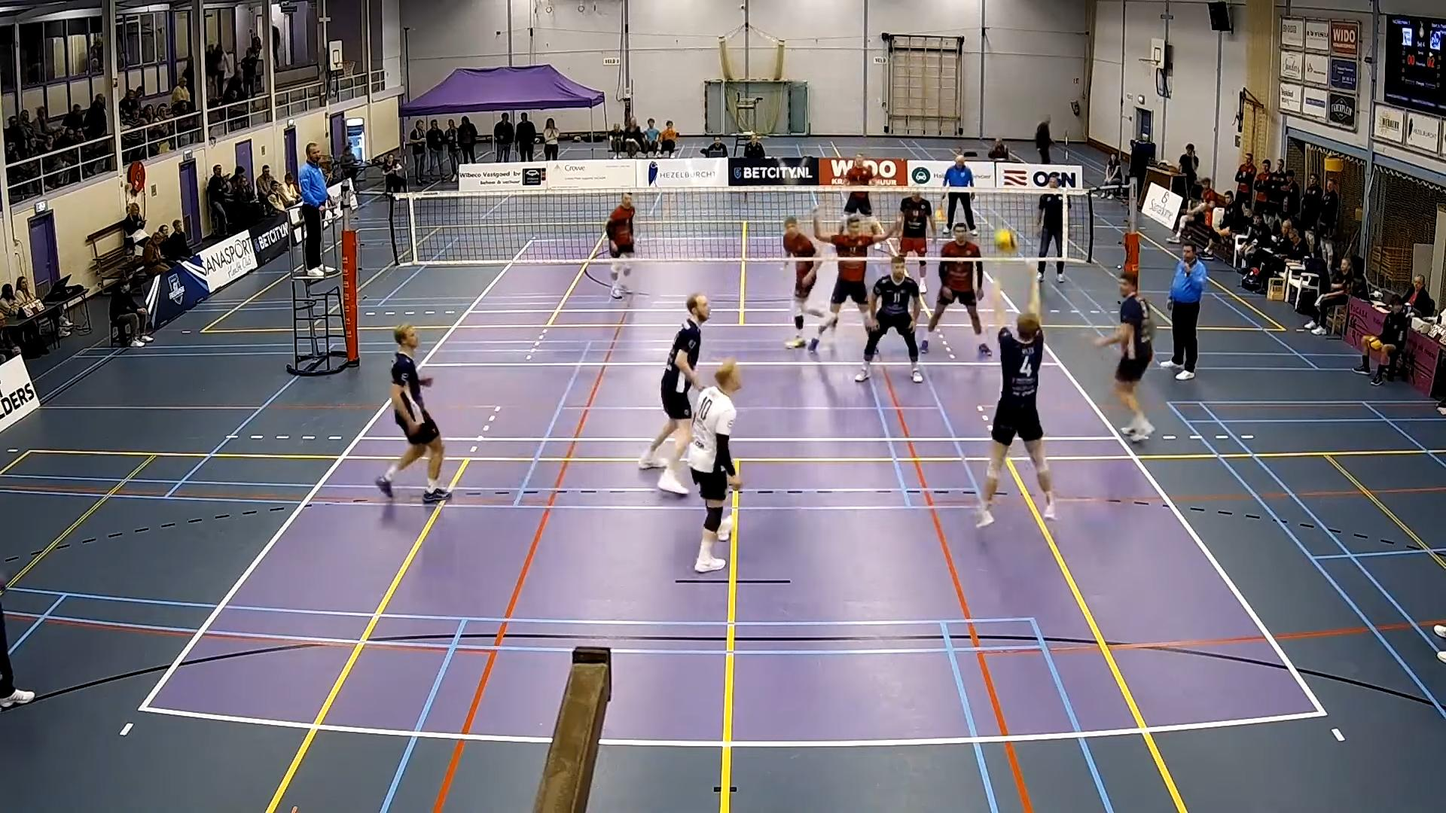ricezione: (969, 279, 1053, 517)
